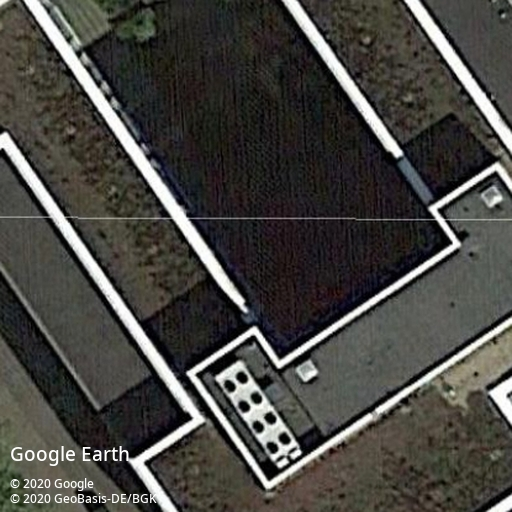Chiller: (213, 358, 305, 470)
